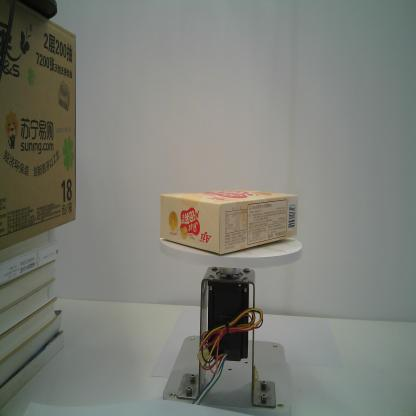Dessert: (160, 190, 298, 255)
